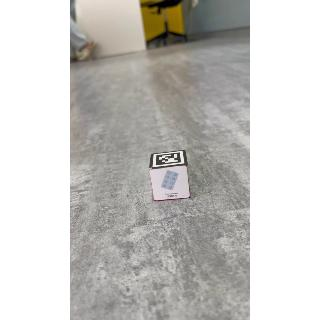Tablet: (152, 168, 191, 201)
